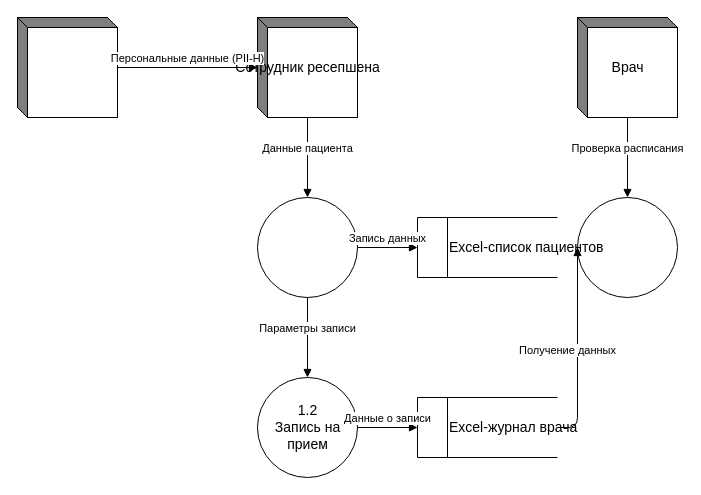
Some shapes in this 701 by 495 pixel diagram are drawn without their labels. The shapes that lost their labels are listed below. From the top down, each one's box as (x1, y1, x2, y2) in pixels, then its label:
(16, 16, 118, 118): Пациент
(256, 196, 358, 298): 1.1 Ввод данных пациента
(576, 196, 678, 298): 1.3 Просмотр расписания
